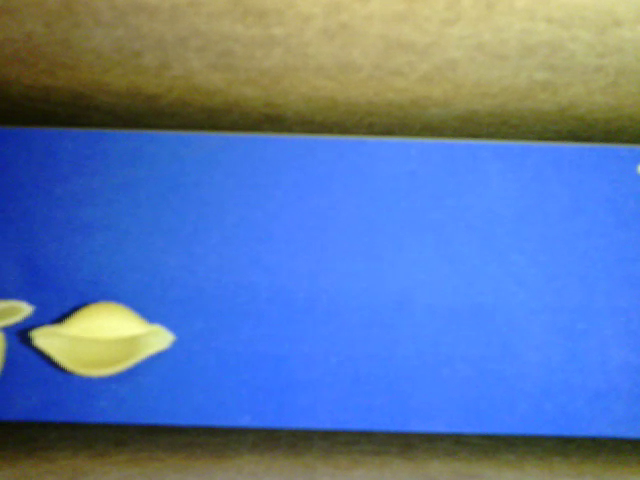shell: (30, 300, 175, 377)
